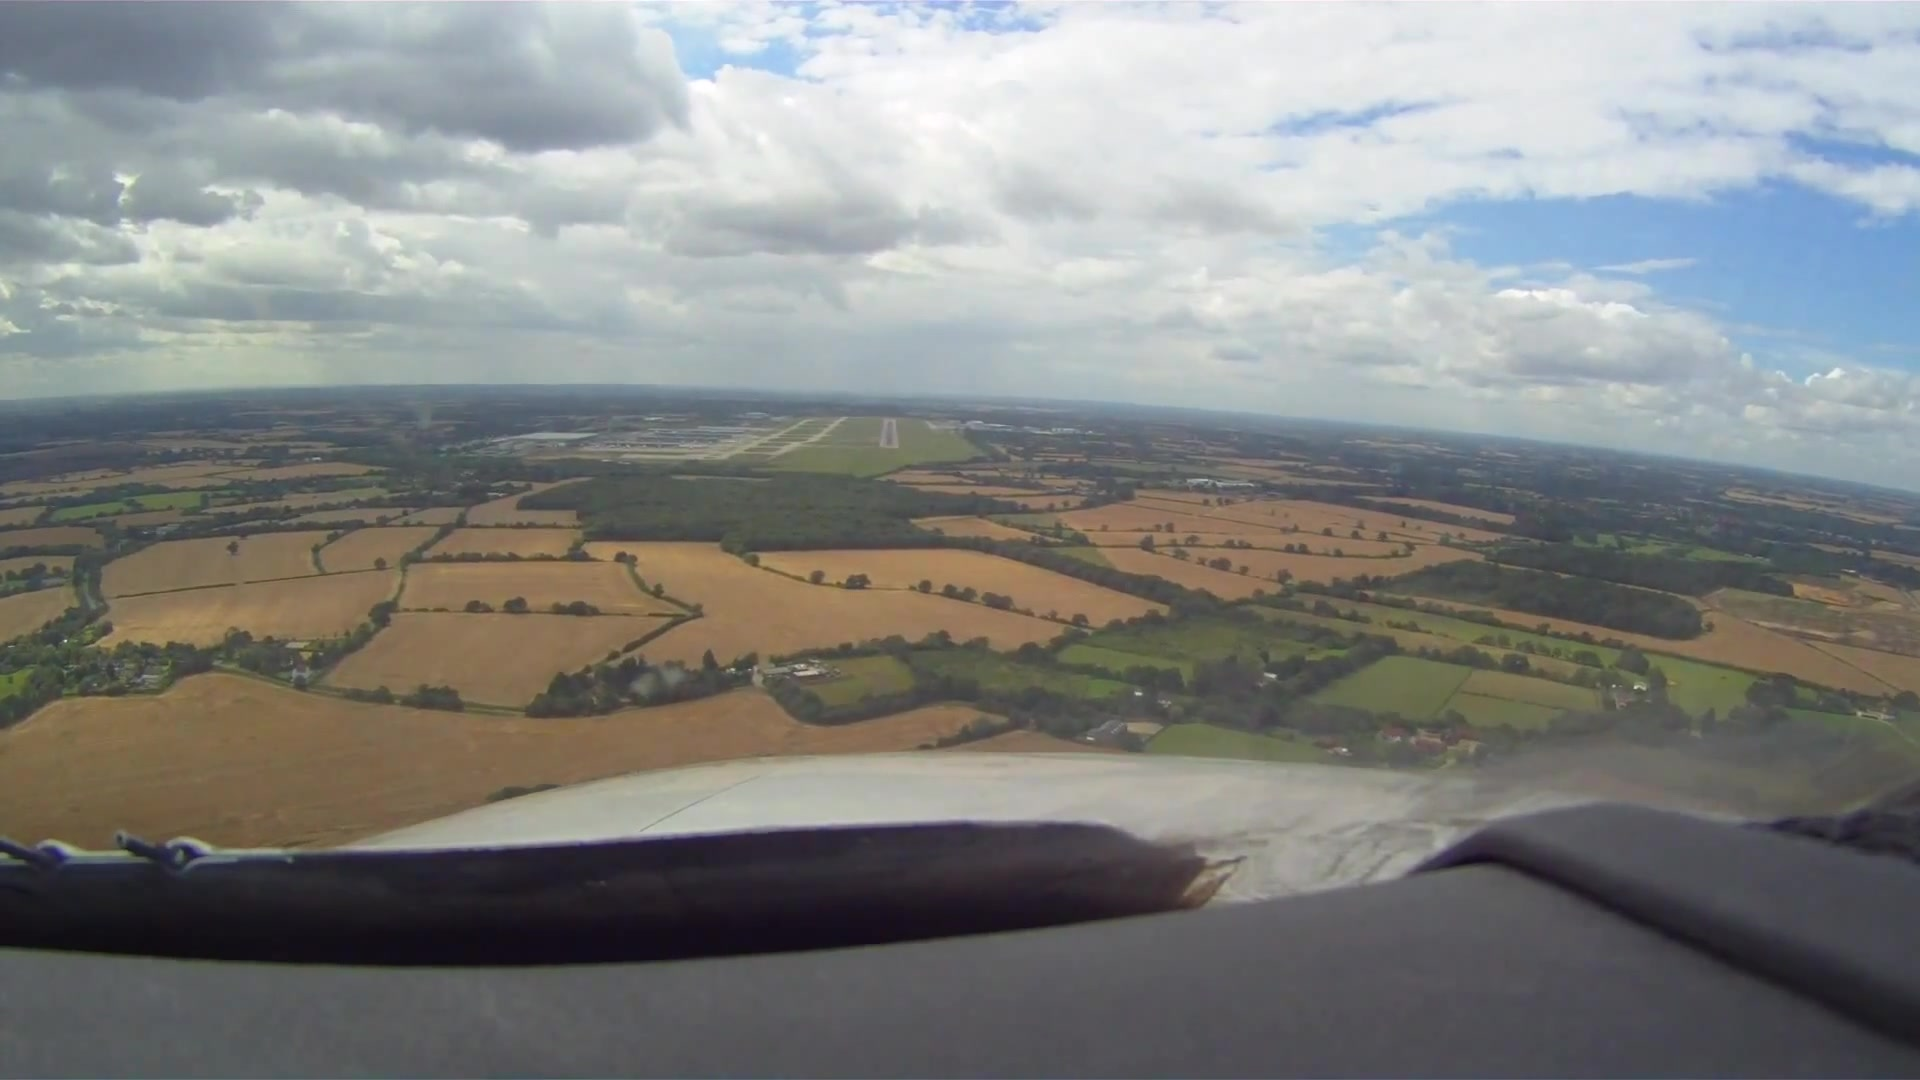runway: (878, 418, 899, 451)
